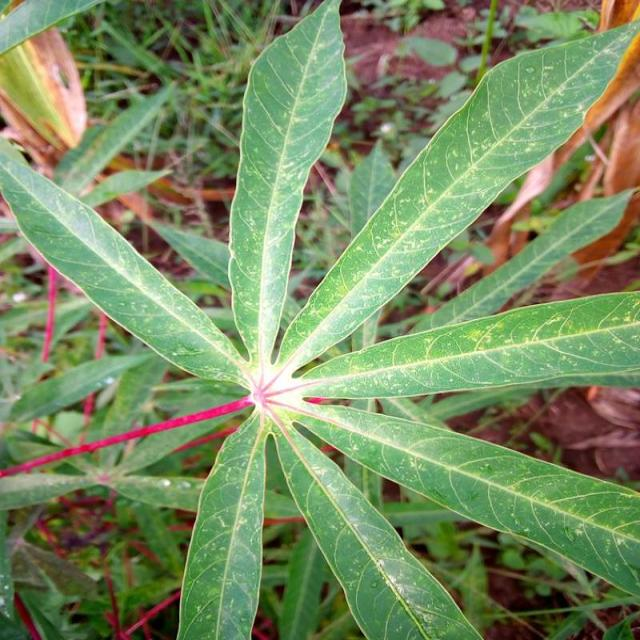cassava leaf: (1, 1, 638, 637), (274, 16, 638, 374), (226, 0, 348, 368)
